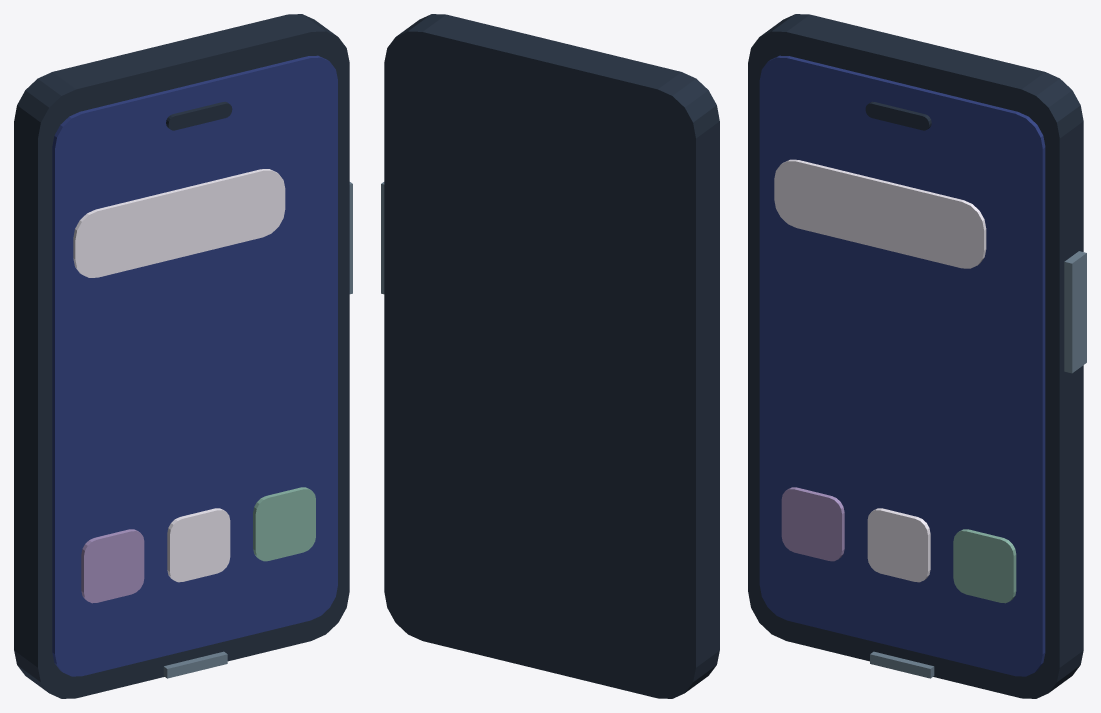
Rendered from phone.glb.
The picture shows the model from 3 angles, left to right: view 1: azimuth 30°, elevation 25°; view 2: azimuth 150°, elevation 25°; view 3: azimuth 330°, elevation 25°; orthographic projection.
Visible parts, largest first — view 1: screen, case, widget, app 1, app 0, app 2, earpiece, port; view 2: case; view 3: screen, case, widget, app 0, app 1, app 2, side switch, earpiece, port.
Boxes of the visible parts, x1=… form: screen: x1=52, y1=55, x2=337, y2=676; case: x1=14, y1=14, x2=349, y2=698; widget: x1=73, y1=169, x2=285, y2=277; app 1: x1=167, y1=508, x2=230, y2=582; app 0: x1=81, y1=529, x2=144, y2=603; app 2: x1=253, y1=487, x2=315, y2=561; earpiece: x1=166, y1=101, x2=232, y2=130; port: x1=163, y1=651, x2=227, y2=678; case: x1=384, y1=14, x2=719, y2=698; screen: x1=759, y1=55, x2=1045, y2=676; case: x1=748, y1=14, x2=1083, y2=698; widget: x1=774, y1=159, x2=986, y2=268; app 0: x1=781, y1=487, x2=844, y2=561; app 1: x1=867, y1=508, x2=930, y2=582; app 2: x1=953, y1=529, x2=1016, y2=603; side switch: x1=1064, y1=251, x2=1086, y2=373; earpiece: x1=865, y1=101, x2=931, y2=130; port: x1=870, y1=651, x2=934, y2=678.
Size of the model in its own units: 1 by 1.83 by 0.166.
